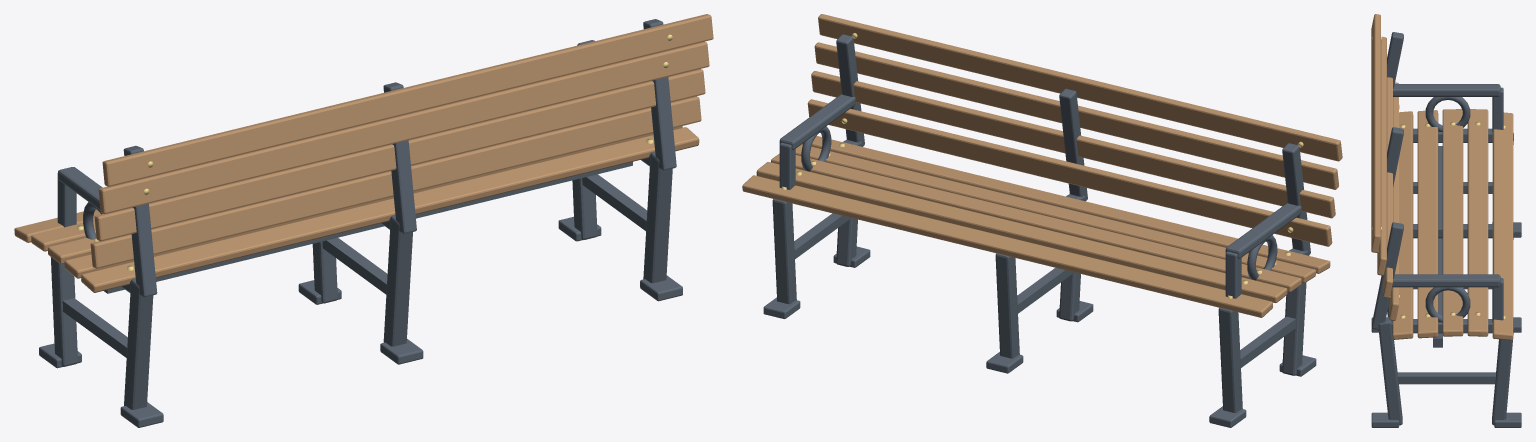
Rendered from prop_park_bench.glb.
The picture shows the model from 3 angles, left to right: view 1: azimuth 30°, elevation 25°; view 2: azimuth 150°, elevation 25°; view 3: azimuth 270°, elevation 25°; orthographic projection. The views are drawn at different scales.
Visible parts, largest first — view 1: LegF_0; view 2: LegF_0; view 3: LegF_0.
Boxes of the visible parts, x1,y1,x2,y2 form: LegF_0: [14, 14, 713, 427]; LegF_0: [742, 14, 1342, 427]; LegF_0: [1371, 14, 1521, 427].
Bounding box in the file's own units: 2.1 × 0.9006 × 0.6016.
